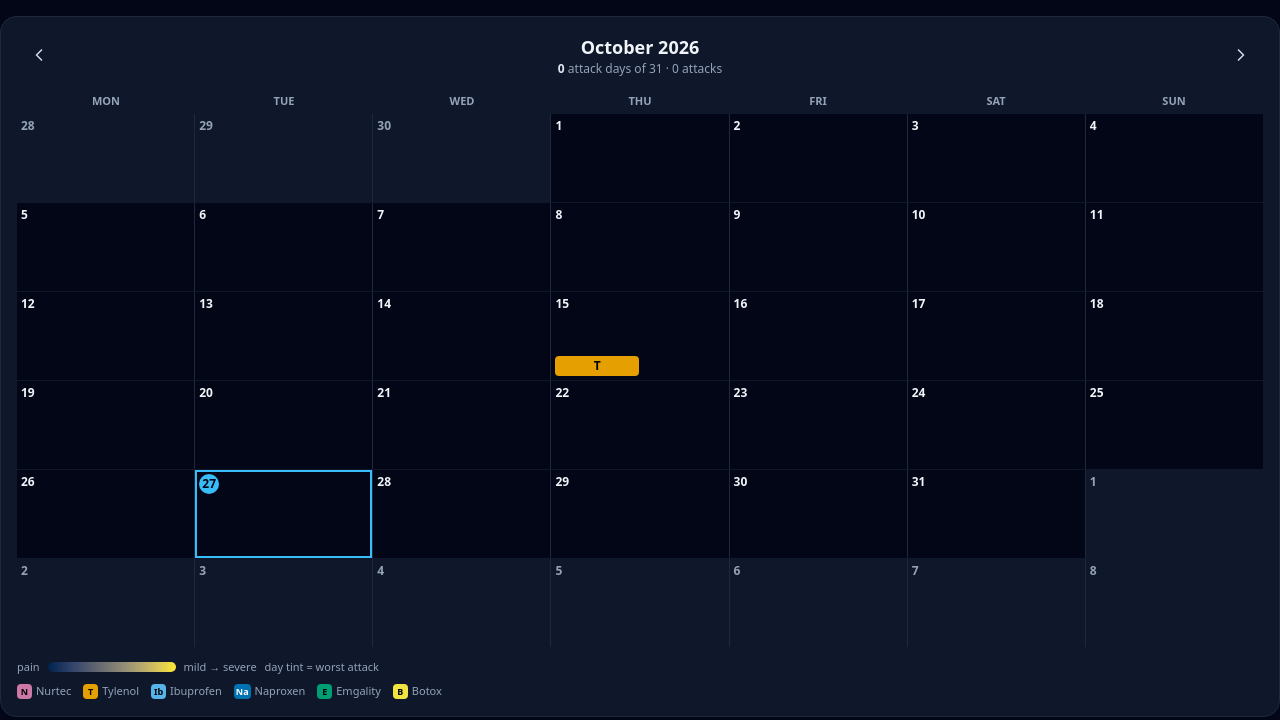
Test: CalendarPage medication day buckets › shows valid meds on their configured-zone day and skips invalid timestamps
This screenshot has width=1280, height=720.
Check: the 1st text titled "Tylenol" is shown, box [555,356,639,376]
Click the button "15 T". click: x=640, y=336
box: [551,292,728,380]
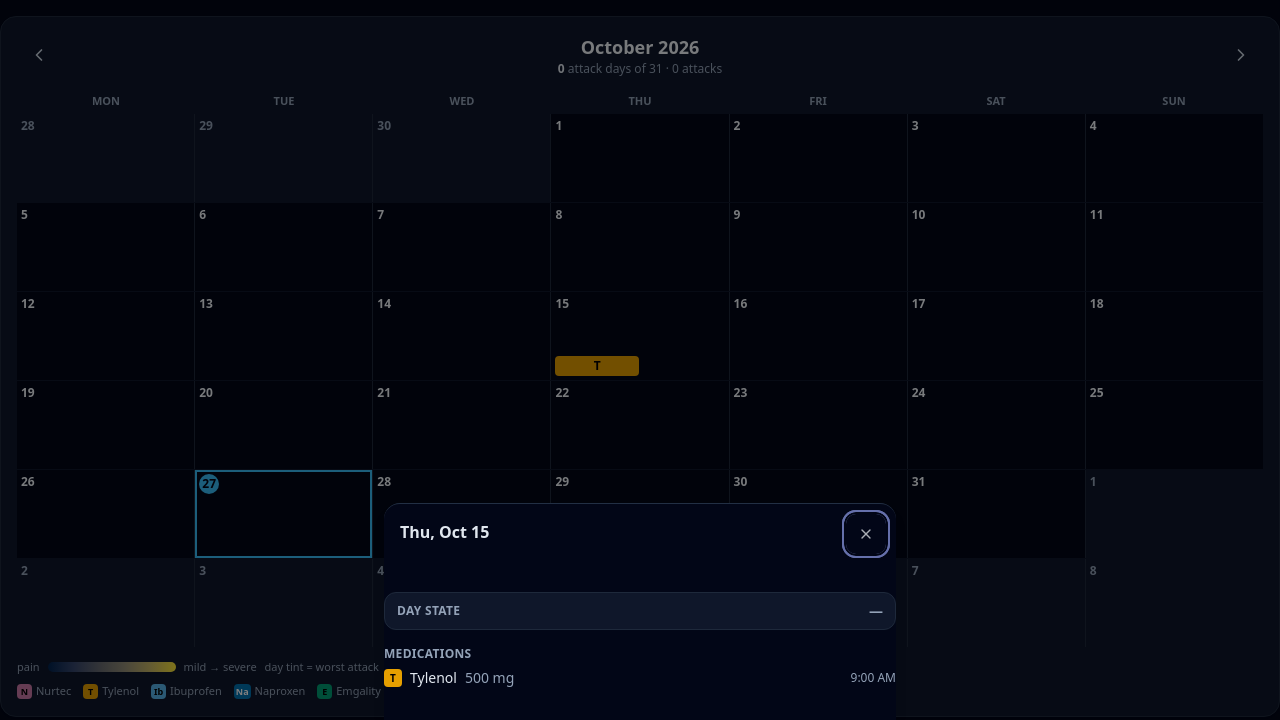
Check: the text "500 mg" is shown, box [465,668,514,688]
Check: the text "Tylenol" is shown, box [410,668,457,688]
